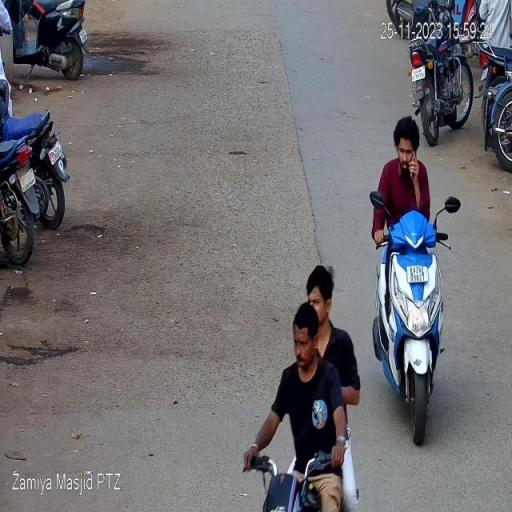using mobile: (409, 142, 419, 194)
